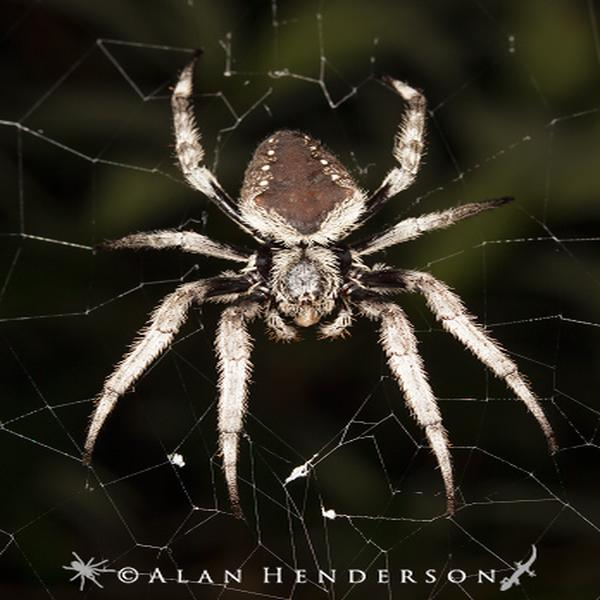Garden Orb Weaver Spider: (98, 58, 546, 502)
